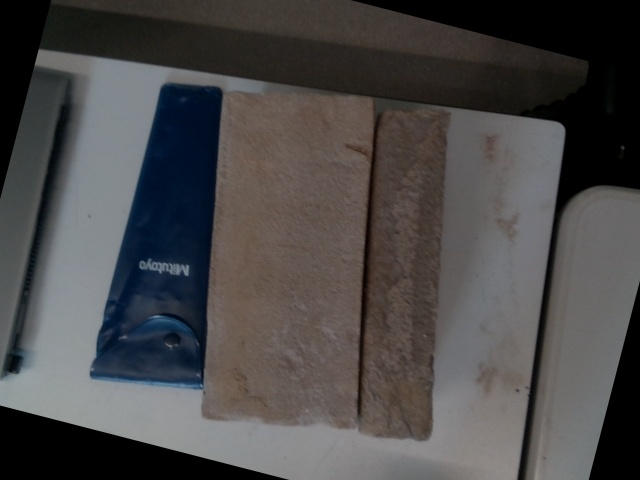brick: (204, 96, 371, 424)
